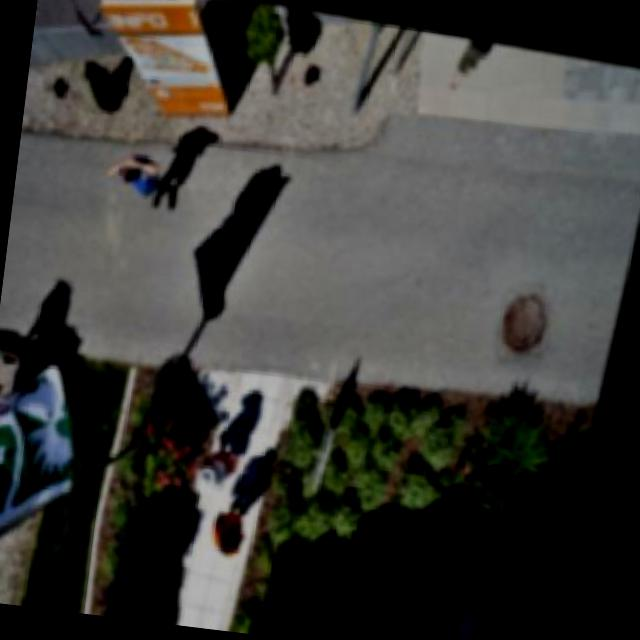Person: (104, 138, 194, 226), (193, 422, 259, 502), (207, 487, 270, 559), (489, 591, 563, 640)
